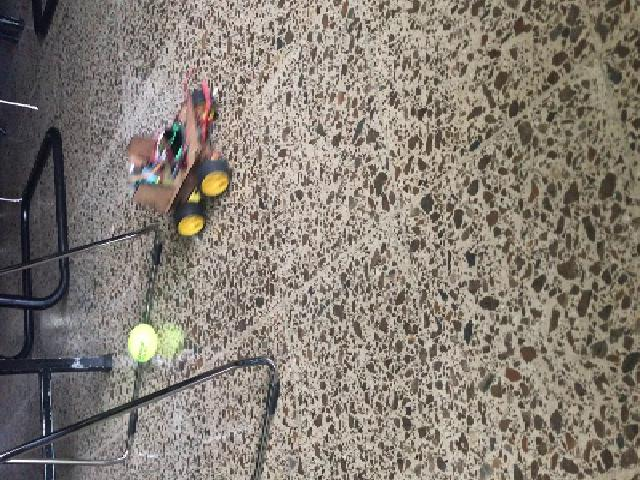Ball: (123, 325, 158, 362)
Robot: (125, 79, 230, 235)
